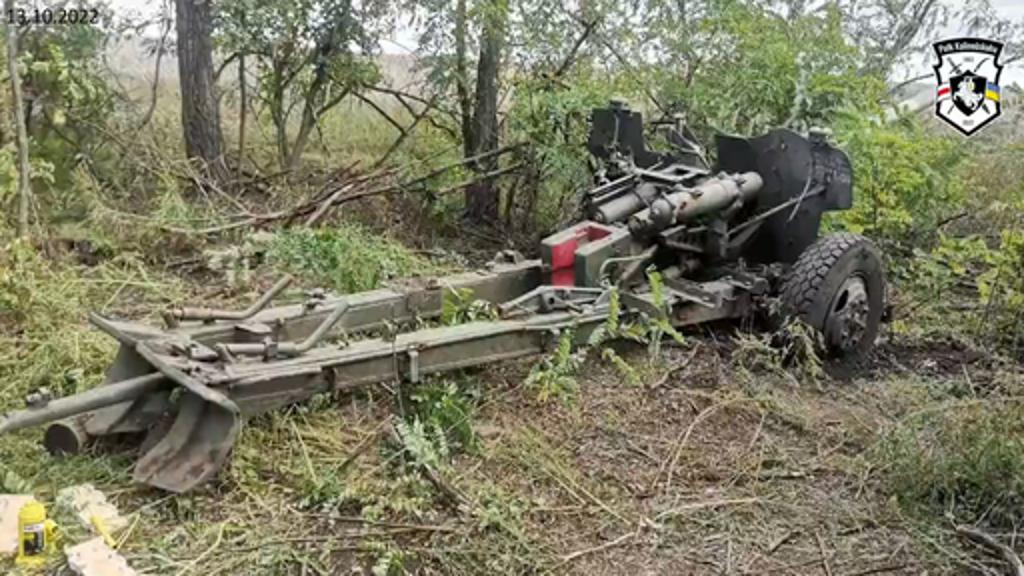ART: (40, 82, 932, 494)
